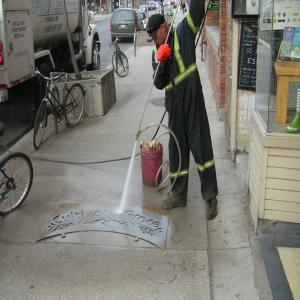Vehicle-registration-plate: (121, 25, 126, 29)
